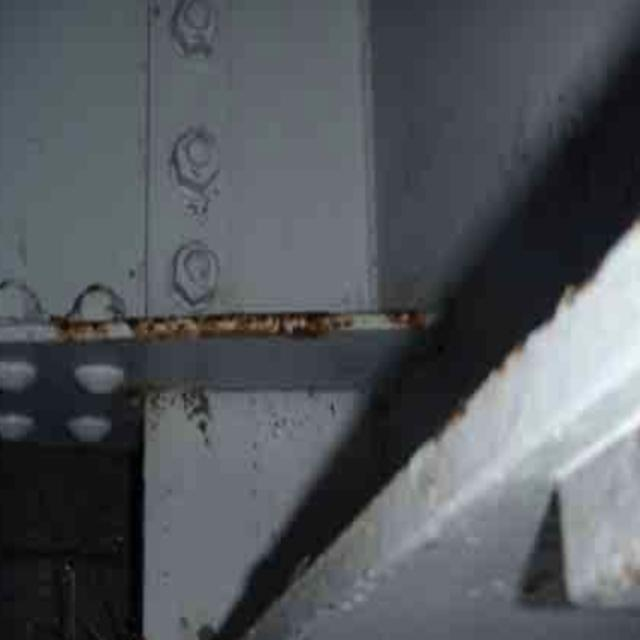corrosion: (76, 276, 428, 353)
